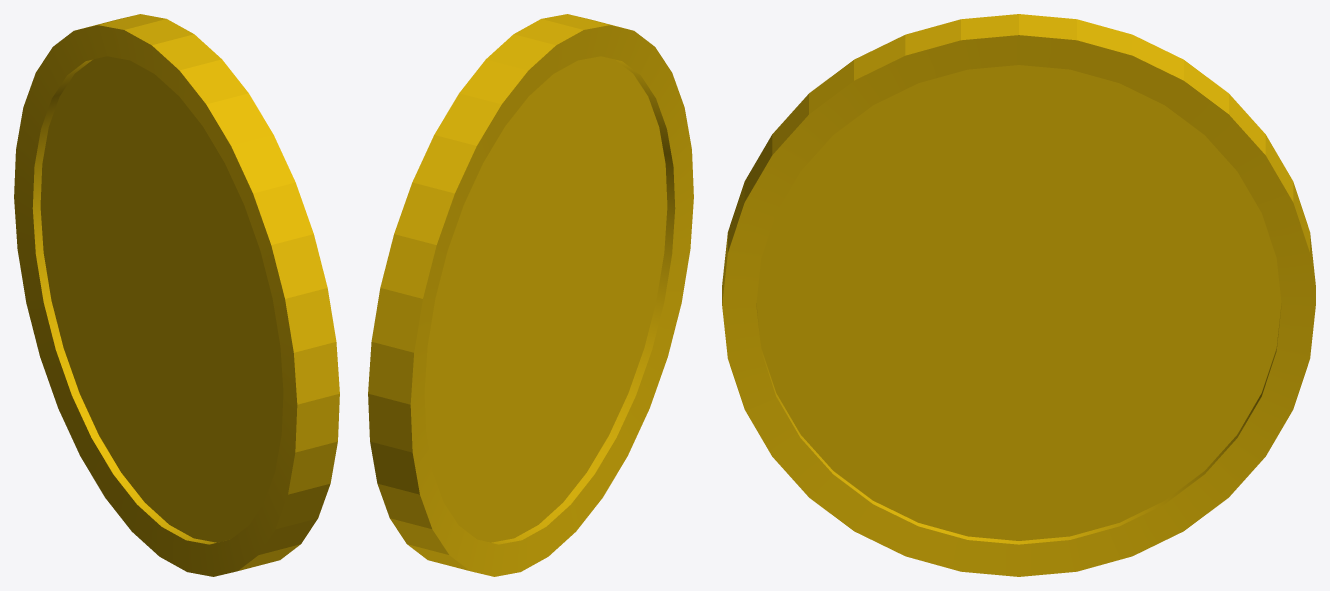
The model's file is Rifqi_Coin_Remodeled.fbx.
The picture shows the model from 3 angles, left to right: view 1: azimuth 30°, elevation 25°; view 2: azimuth 150°, elevation 25°; view 3: azimuth 270°, elevation 25°; orthographic projection. The views are drawn at different scales.
Parts seen in each view (by area): view 1: Cylinder; view 2: Cylinder; view 3: Cylinder.
Part boxes in pixels (left/top/right/bottom): Cylinder: left=14, top=14, right=339, bottom=576; Cylinder: left=368, top=14, right=693, bottom=576; Cylinder: left=722, top=14, right=1315, bottom=576.
Bounding box in the file's own units: 20.56 × 200 × 200.
